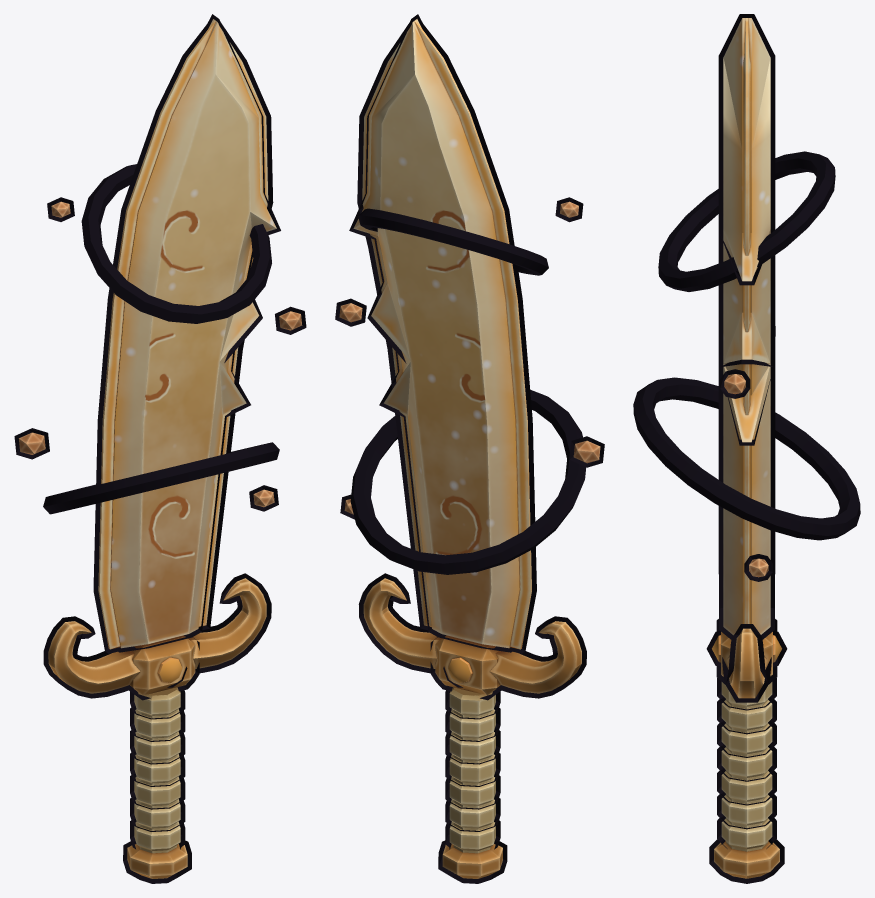
File: SandstormSword.fbx
The picture shows the model from 3 angles, left to right: view 1: azimuth 30°, elevation 25°; view 2: azimuth 150°, elevation 25°; view 3: azimuth 270°, elevation 25°; orthographic projection. The views are drawn at different scales.
Parts seen in each view (by area): view 1: SandstormSword, SandstormSwordOutline, SandstormSwordSandGlow; view 2: SandstormSword, SandstormSwordOutline, SandstormSwordSandGlow; view 3: SandstormSword, SandstormSwordOutline, SandstormSwordSandGlow.
Boxes of the visible parts, box(x1,y1,x2,y2) form: SandstormSword: box(18, 19, 302, 878); SandstormSwordOutline: box(14, 14, 306, 883); SandstormSwordSandGlow: box(98, 20, 268, 682); SandstormSword: box(339, 19, 600, 878); SandstormSwordOutline: box(335, 14, 604, 883); SandstormSwordSandGlow: box(362, 20, 531, 682); SandstormSword: box(714, 18, 779, 878); SandstormSwordOutline: box(633, 14, 860, 883); SandstormSwordSandGlow: box(712, 18, 781, 662).
Bounding box in the file's own units: 144 × 419 × 96.59.
Materials: 2 (1 with a texture image).
